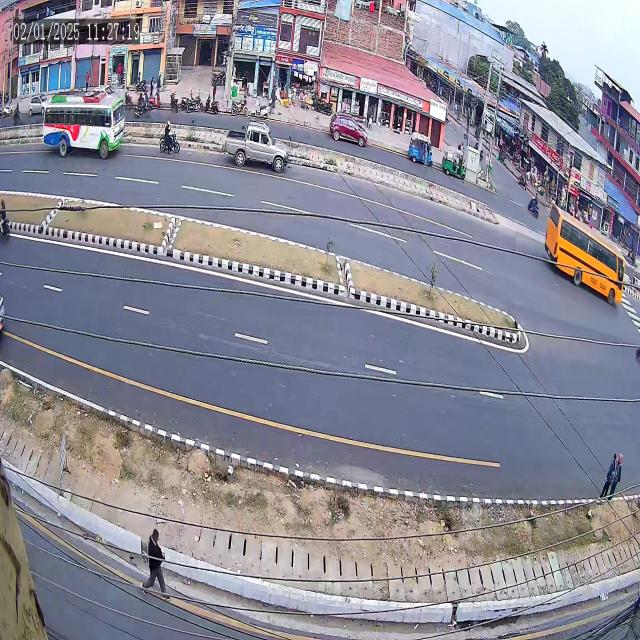bus: (543, 190, 630, 326), (43, 95, 128, 165)
